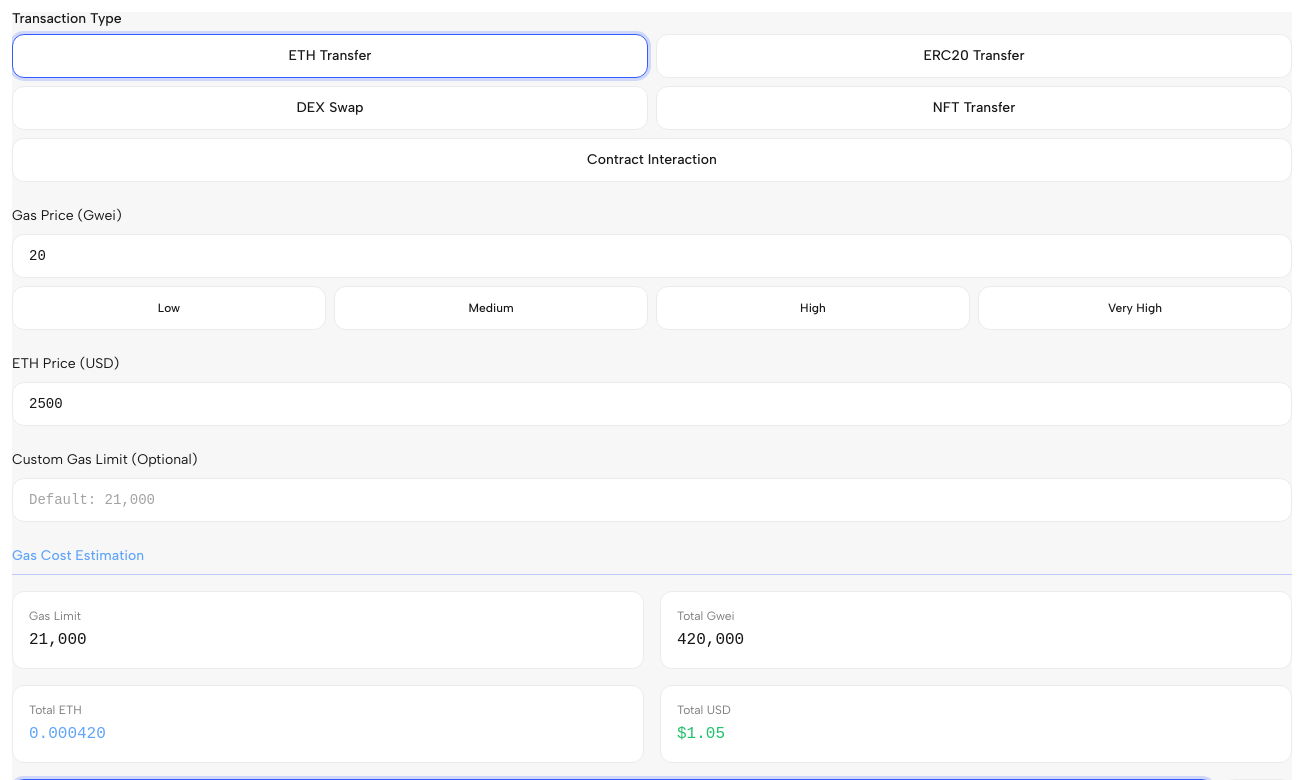
Scenario: GasEstimatorTool › updates gas price when preset is clicked
Click the button "Low". click: click(169, 308)
box: [12, 286, 326, 330]
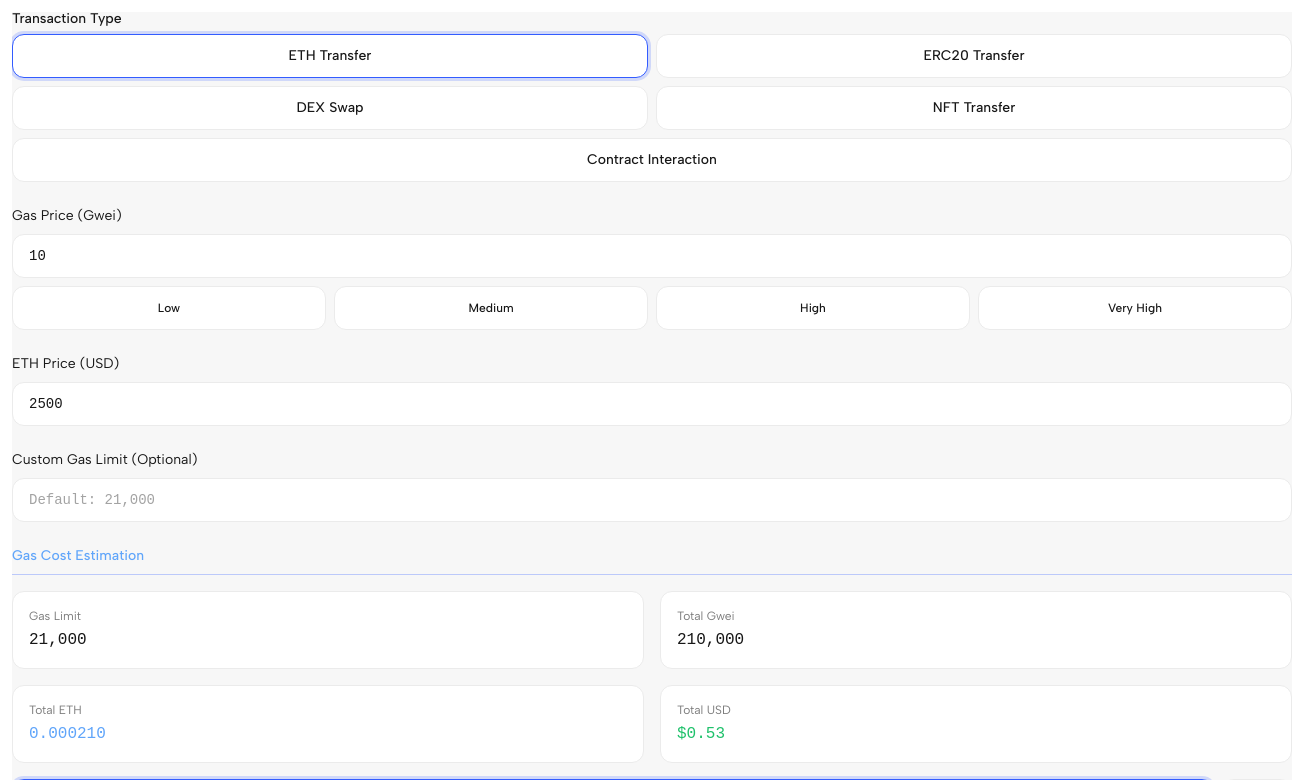
Expected: the number field with placeholder "20" below "Gas Price (Gwei)" holds "10", [12, 234, 1292, 278]
Click the button "High". click: click(813, 308)
box: [656, 286, 970, 330]
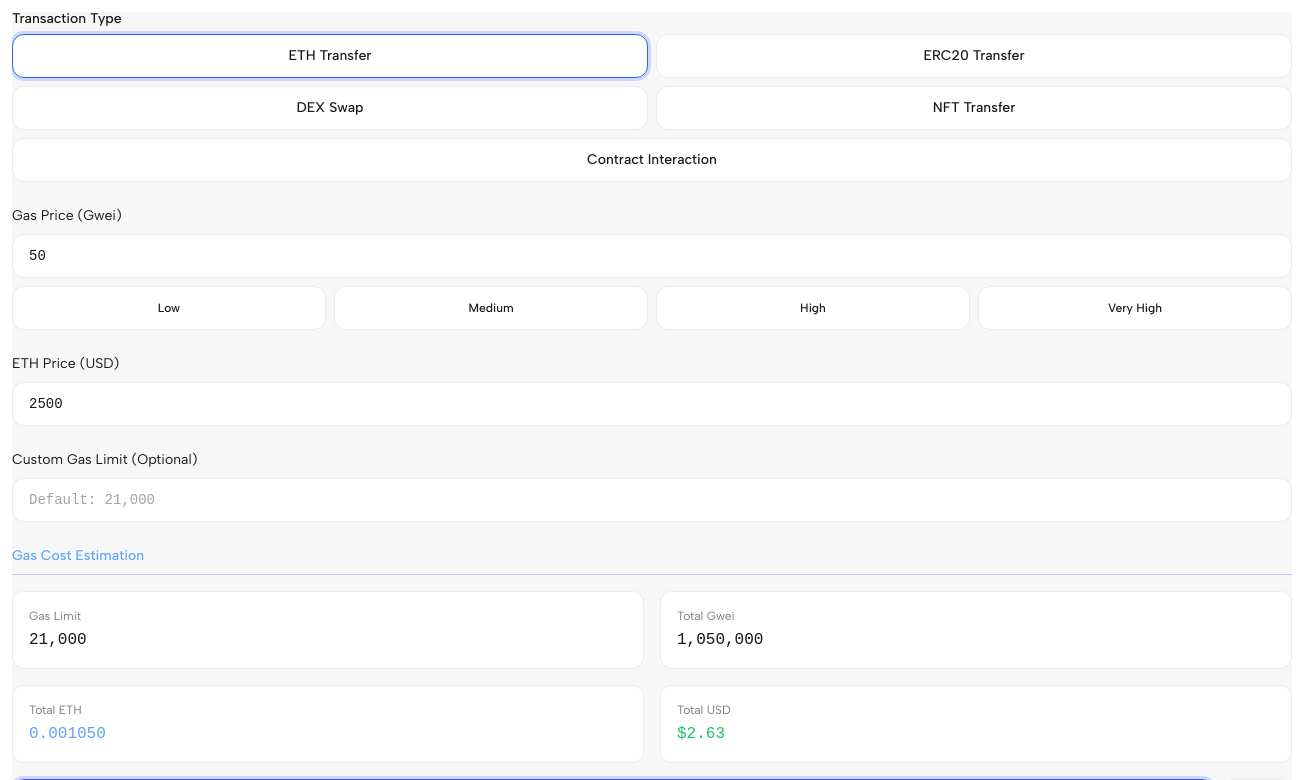
Expected: the number field with placeholder "20" below "Gas Price (Gwei)" holds "50", [12, 234, 1292, 278]
